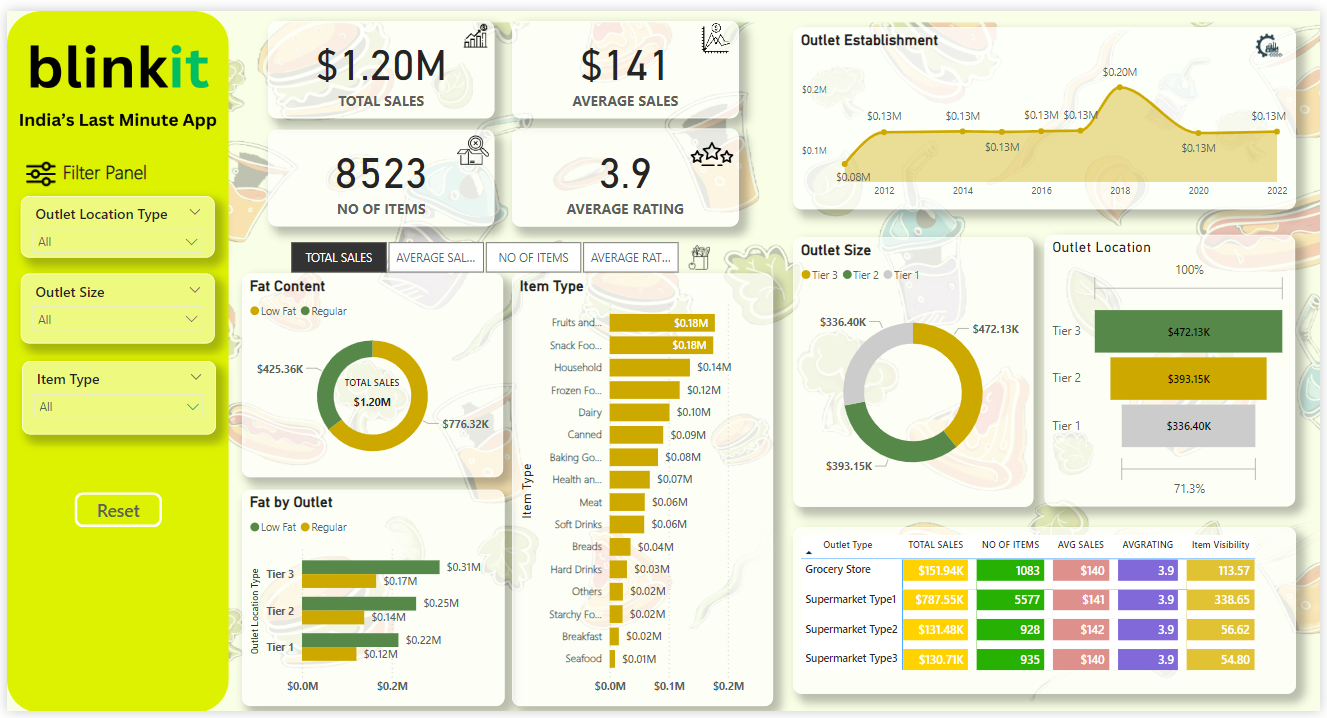

The page's visual inventory and layout, read from the dashboard file:
{"tool":"powerbi","page":{"name":"Page 1","canvas":[1500,800],"ordinal":0},"visuals":[{"type":"slicer","fields":{"Values":["Metrics.Metrics"]},"box":[298.6,257.1,492.9,48.6],"z":0},{"type":"card","fields":{"Values":["BlinkIT Grocery Data.Avg Sales"]},"box":[576.9,10.8,259.2,111.5],"z":1000},{"type":"card","fields":{"Values":["BlinkIT Grocery Data.Avg Rating"]},"box":[576.9,134.6,259.2,112.3],"z":2000},{"type":"card","fields":{"Values":["BlinkIT Grocery Data.Total Sales"]},"box":[298.5,10.8,258.5,111.5],"z":3000},{"type":"card","fields":{"Values":["BlinkIT Grocery Data.No of items"]},"box":[298.5,136.2,258.5,110.8],"z":4000},{"type":"image","box":[776.2,134.6,60,58.5],"z":5000},{"type":"image","box":[508.5,133.8,48.5,50],"z":6000},{"type":"image","box":[514.3,7.1,42.9,42.9],"z":7000},{"type":"image","box":[784.6,7.7,51.5,48.5],"z":8000},{"type":"donutChart","title":"Fat Content","fields":{"Y":["BlinkIT Grocery Data.TOTAL SALES"],"Category":["BlinkIT Grocery Data.Item Fat Content"]},"box":[268.6,300,298.6,232.9],"z":9000},{"type":"cardVisual","fields":{"Data":["BlinkIT Grocery Data.TOTAL SALES"]},"box":[364.8,400,106.2,67.6],"z":10000},{"type":"clusteredBarChart","title":"Fat by Outlet","fields":{"Y":["BlinkIT Grocery Data.TOTAL SALES"],"Category":["BlinkIT Grocery Data.Outlet Location Type"],"Series":["BlinkIT Grocery Data.Item Fat Content"]},"box":[268.6,547.1,300,247.1],"z":11000},{"type":"barChart","title":"Item Type","fields":{"Y":["BlinkIT Grocery Data.TOTAL SALES"],"Category":["BlinkIT Grocery Data.Item Type"]},"box":[577.1,300,298.6,494.3],"z":12000},{"type":"lineChart","title":"Outlet Establishment ","fields":{"Category":["BlinkIT Grocery Data.Outlet Establishment Year"],"Y":["BlinkIT Grocery Data.TOTAL SALES"]},"box":[898,18,574,208],"z":13000},{"type":"donutChart","title":"Outlet Size","fields":{"Y":["BlinkIT Grocery Data.TOTAL SALES"],"Category":["BlinkIT Grocery Data.Outlet Location Type"]},"box":[898,258,274,308],"z":14000},{"type":"funnel","title":"Outlet Location","fields":{"Y":["BlinkIT Grocery Data.TOTAL SALES"],"Category":["BlinkIT Grocery Data.Outlet Location Type"]},"box":[1186,256,286,310],"z":15000},{"type":"pivotTable","fields":{"Rows":["BlinkIT Grocery Data.Outlet Type"],"Values":["BlinkIT Grocery Data.TOTAL SALES","BlinkIT Grocery Data.NO OF ITEMS","BlinkIT Grocery Data.AVERAGE SALES","BlinkIT Grocery Data.AVERAGE RATING","Sum(BlinkIT Grocery Data.Item Visibility)"]},"box":[898,590,574,190],"z":16000},{"type":"slicer","fields":{"Values":["BlinkIT Grocery Data.Outlet Location Type"]},"box":[16.2,211.2,221.2,70],"z":17000},{"type":"slicer","fields":{"Values":["BlinkIT Grocery Data.Outlet Size"]},"box":[16.2,300,221.2,80],"z":18000},{"type":"slicer","fields":{"Values":["BlinkIT Grocery Data.Item Type"]},"box":[17.5,400,221.2,83.8],"z":19000},{"type":"textbox","box":[58,163.8,137.7,40.6],"z":19001},{"type":"image","box":[17.4,163.8,43.5,43.5],"z":19002},{"type":"image","box":[1418.3,10,53.3,60],"z":19003},{"type":"image","box":[762.5,250,56.7,63.3],"z":19004},{"type":"actionButton","box":[77.1,550,100,40],"z":19005}]}

Visuals, with their boxes in screenshot pixels (x1, y1, x2, y2), scaled from the page's 1500x800 canvas onto the 1327x718 screenshot:
slicer - Metrics.Metrics: 264, 231, 700, 274
card - BlinkIT Grocery Data.Avg Sales: 510, 10, 740, 110
card - BlinkIT Grocery Data.Avg Rating: 510, 121, 740, 222
card - BlinkIT Grocery Data.Total Sales: 264, 10, 493, 110
card - BlinkIT Grocery Data.No of items: 264, 122, 493, 222
image: 687, 121, 740, 173
image: 450, 120, 493, 165
image: 455, 6, 493, 45
image: 694, 7, 740, 50
"Fat Content" donutChart: 238, 269, 502, 478
cardVisual - BlinkIT Grocery Data.TOTAL SALES: 323, 359, 417, 420
"Fat by Outlet" clusteredBarChart: 238, 491, 503, 713
"Item Type" barChart: 511, 269, 775, 713
"Outlet Establishment " lineChart: 794, 16, 1302, 203
"Outlet Size" donutChart: 794, 232, 1037, 508
"Outlet Location" funnel: 1049, 230, 1302, 508
pivotTable - BlinkIT Grocery Data.Outlet Type x BlinkIT Grocery Data.TOTAL SALES: 794, 530, 1302, 700
slicer - BlinkIT Grocery Data.Outlet Location Type: 14, 190, 210, 252
slicer - BlinkIT Grocery Data.Outlet Size: 14, 269, 210, 341
slicer - BlinkIT Grocery Data.Item Type: 15, 359, 211, 434
textbox: 51, 147, 173, 183
image: 15, 147, 54, 186
image: 1255, 9, 1302, 63
image: 675, 224, 725, 281
actionButton: 68, 494, 157, 530
